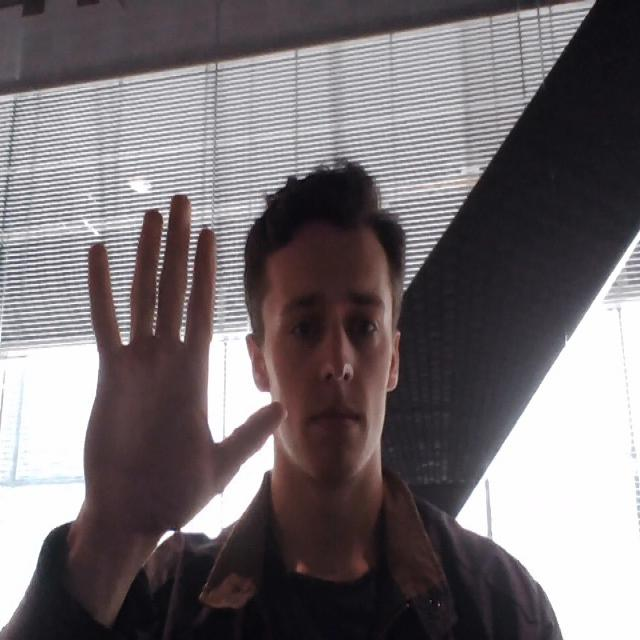backward: (74, 184, 290, 529)
